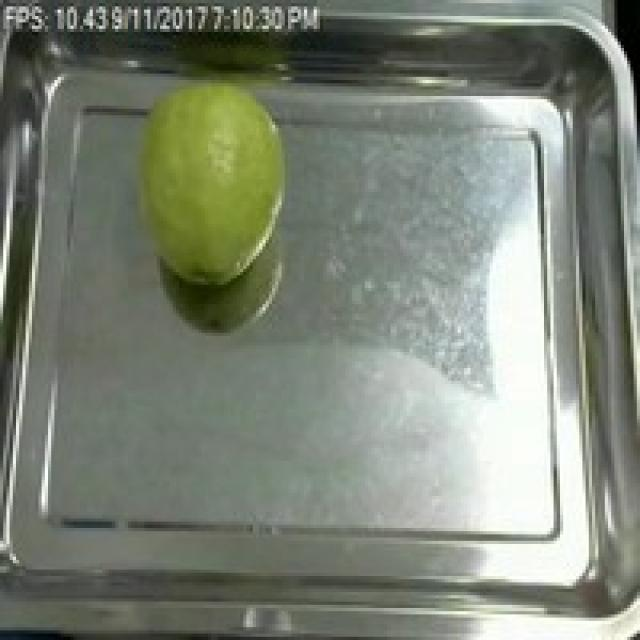Fruit: (115, 74, 298, 298)
